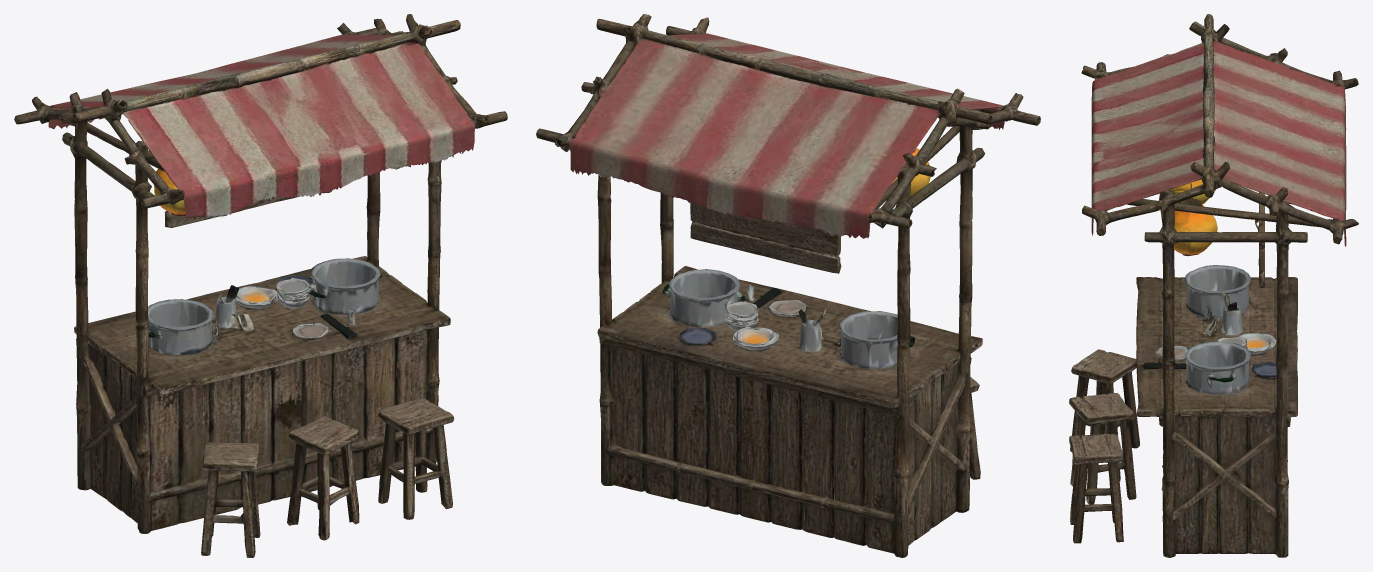
Rendered from stragan.glb.
The picture shows the model from 3 angles, left to right: view 1: azimuth 30°, elevation 25°; view 2: azimuth 150°, elevation 25°; view 3: azimuth 270°, elevation 25°; orthographic projection. The views are drawn at different scales.
Visible parts, largest first — view 1: tripo_node_5283f436-4775-4a6f-9df6-3f79a13515ad; view 2: tripo_node_5283f436-4775-4a6f-9df6-3f79a13515ad; view 3: tripo_node_5283f436-4775-4a6f-9df6-3f79a13515ad.
Part boxes in pixels (box(x1,y1,x2,y2)): tripo_node_5283f436-4775-4a6f-9df6-3f79a13515ad: box(14, 14, 507, 557); tripo_node_5283f436-4775-4a6f-9df6-3f79a13515ad: box(536, 14, 1040, 557); tripo_node_5283f436-4775-4a6f-9df6-3f79a13515ad: box(1069, 14, 1358, 557).
Bounding box in the file's own units: 0.9229 × 0.9777 × 0.6426.
1 material, 1 textured.
